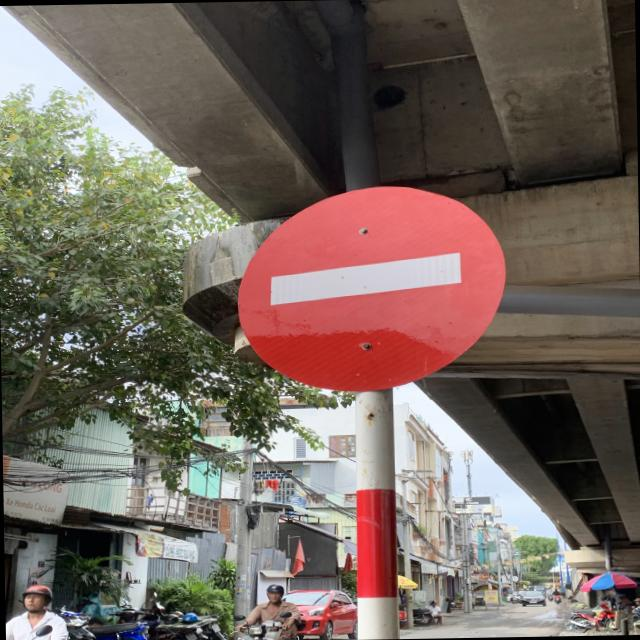Cam_Di_Nguoc_Chieu: (231, 180, 511, 388)
